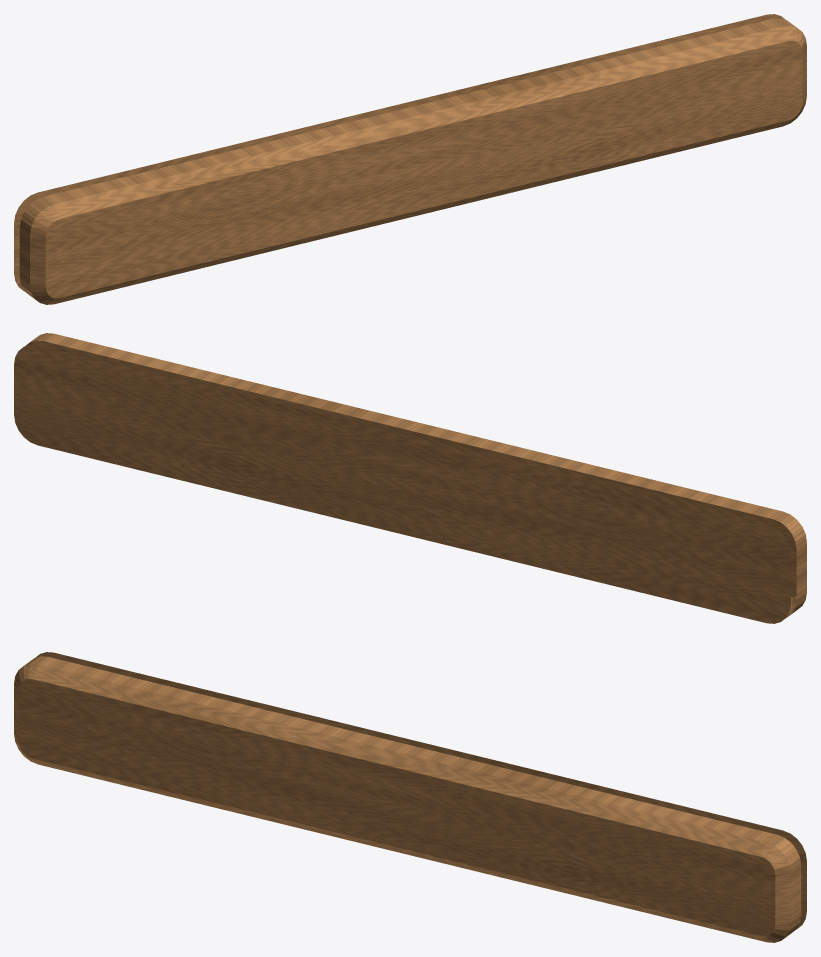
The model's file is Plank_Long_Oak.obj.
3 views of the same model, one above another, from view 1: azimuth 30°, elevation 25°; view 2: azimuth 150°, elevation 25°; view 3: azimuth 330°, elevation 25° (orthographic).
Parts seen in each view (by area): view 1: Plank_Long_Oak; view 2: Plank_Long_Oak; view 3: Plank_Long_Oak.
Boxes of the visible parts, x1,y1,x2,y2 form: Plank_Long_Oak: [14, 14, 806, 304]; Plank_Long_Oak: [14, 333, 806, 623]; Plank_Long_Oak: [14, 652, 806, 942].
Size of the model in its own units: 3.9 by 0.48 by 0.19.
Materials: 1 (1 with a texture image).
